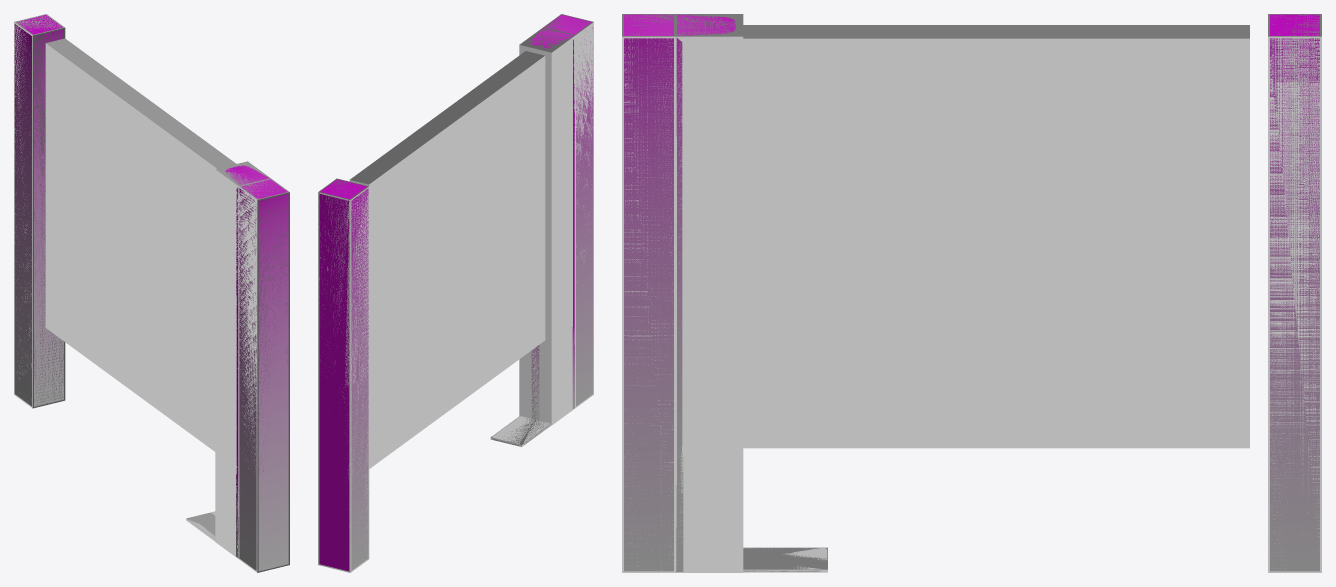
The picture shows the model from 3 angles, left to right: view 1: azimuth 30°, elevation 25°; view 2: azimuth 150°, elevation 25°; view 3: azimuth 270°, elevation 25°; orthographic projection. The views are drawn at different scales.
Parts seen in each view (by area): view 1: SM_Turnstile_Door_01a_ConvexHulls, SM_Turnstile_Door_01a; view 2: SM_Turnstile_Door_01a_ConvexHulls, SM_Turnstile_Door_01a; view 3: SM_Turnstile_Door_01a_ConvexHulls, SM_Turnstile_Door_01a.
Part boxes in pixels (x1,y1,x2,y2): SM_Turnstile_Door_01a_ConvexHulls: [14, 14, 289, 572]; SM_Turnstile_Door_01a: [14, 15, 288, 571]; SM_Turnstile_Door_01a_ConvexHulls: [318, 14, 593, 572]; SM_Turnstile_Door_01a: [319, 15, 593, 571]; SM_Turnstile_Door_01a_ConvexHulls: [622, 14, 1321, 572]; SM_Turnstile_Door_01a: [624, 14, 1319, 571].
Size of the model in its own units: 10 by 130 by 110.
